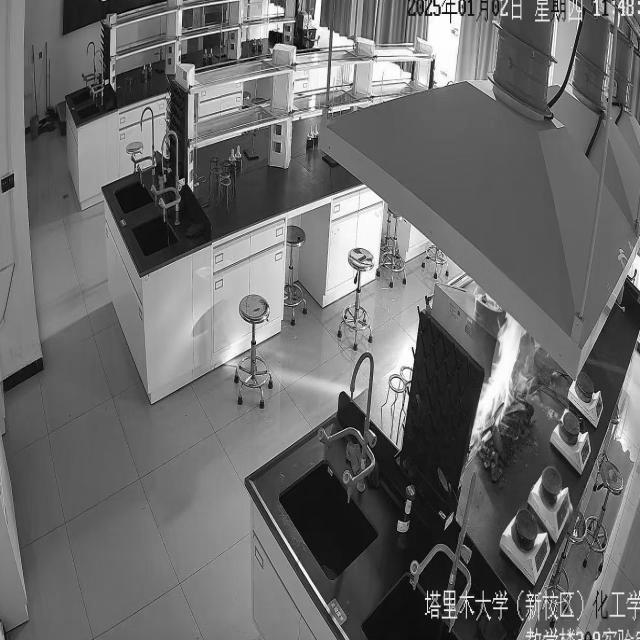smoke: (470, 310, 526, 446)
